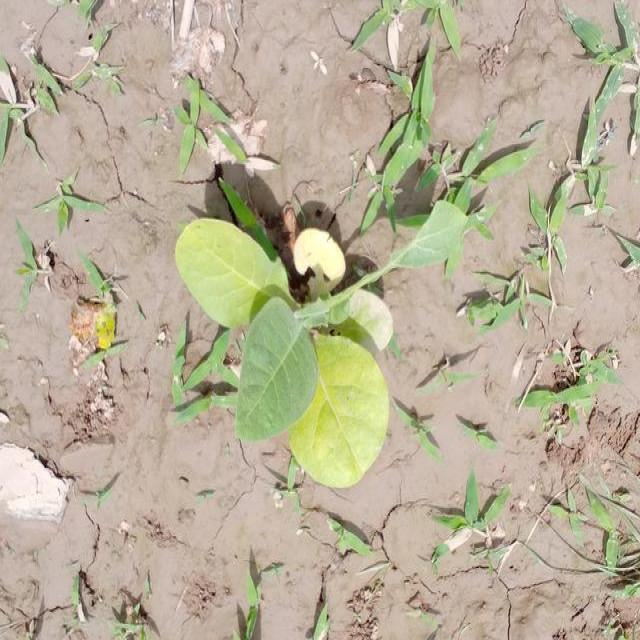crop: (170, 195, 472, 493)
